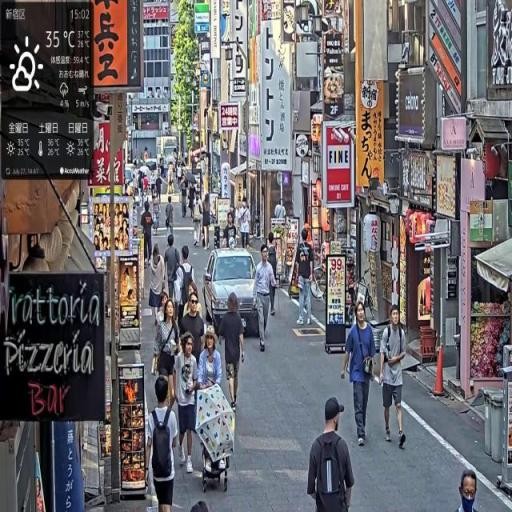person: (307, 398, 356, 512), (343, 301, 379, 450), (379, 304, 410, 455), (147, 376, 181, 512), (217, 294, 247, 415), (176, 332, 201, 473), (253, 247, 277, 354), (164, 233, 183, 320), (202, 196, 213, 252), (193, 198, 203, 249)
